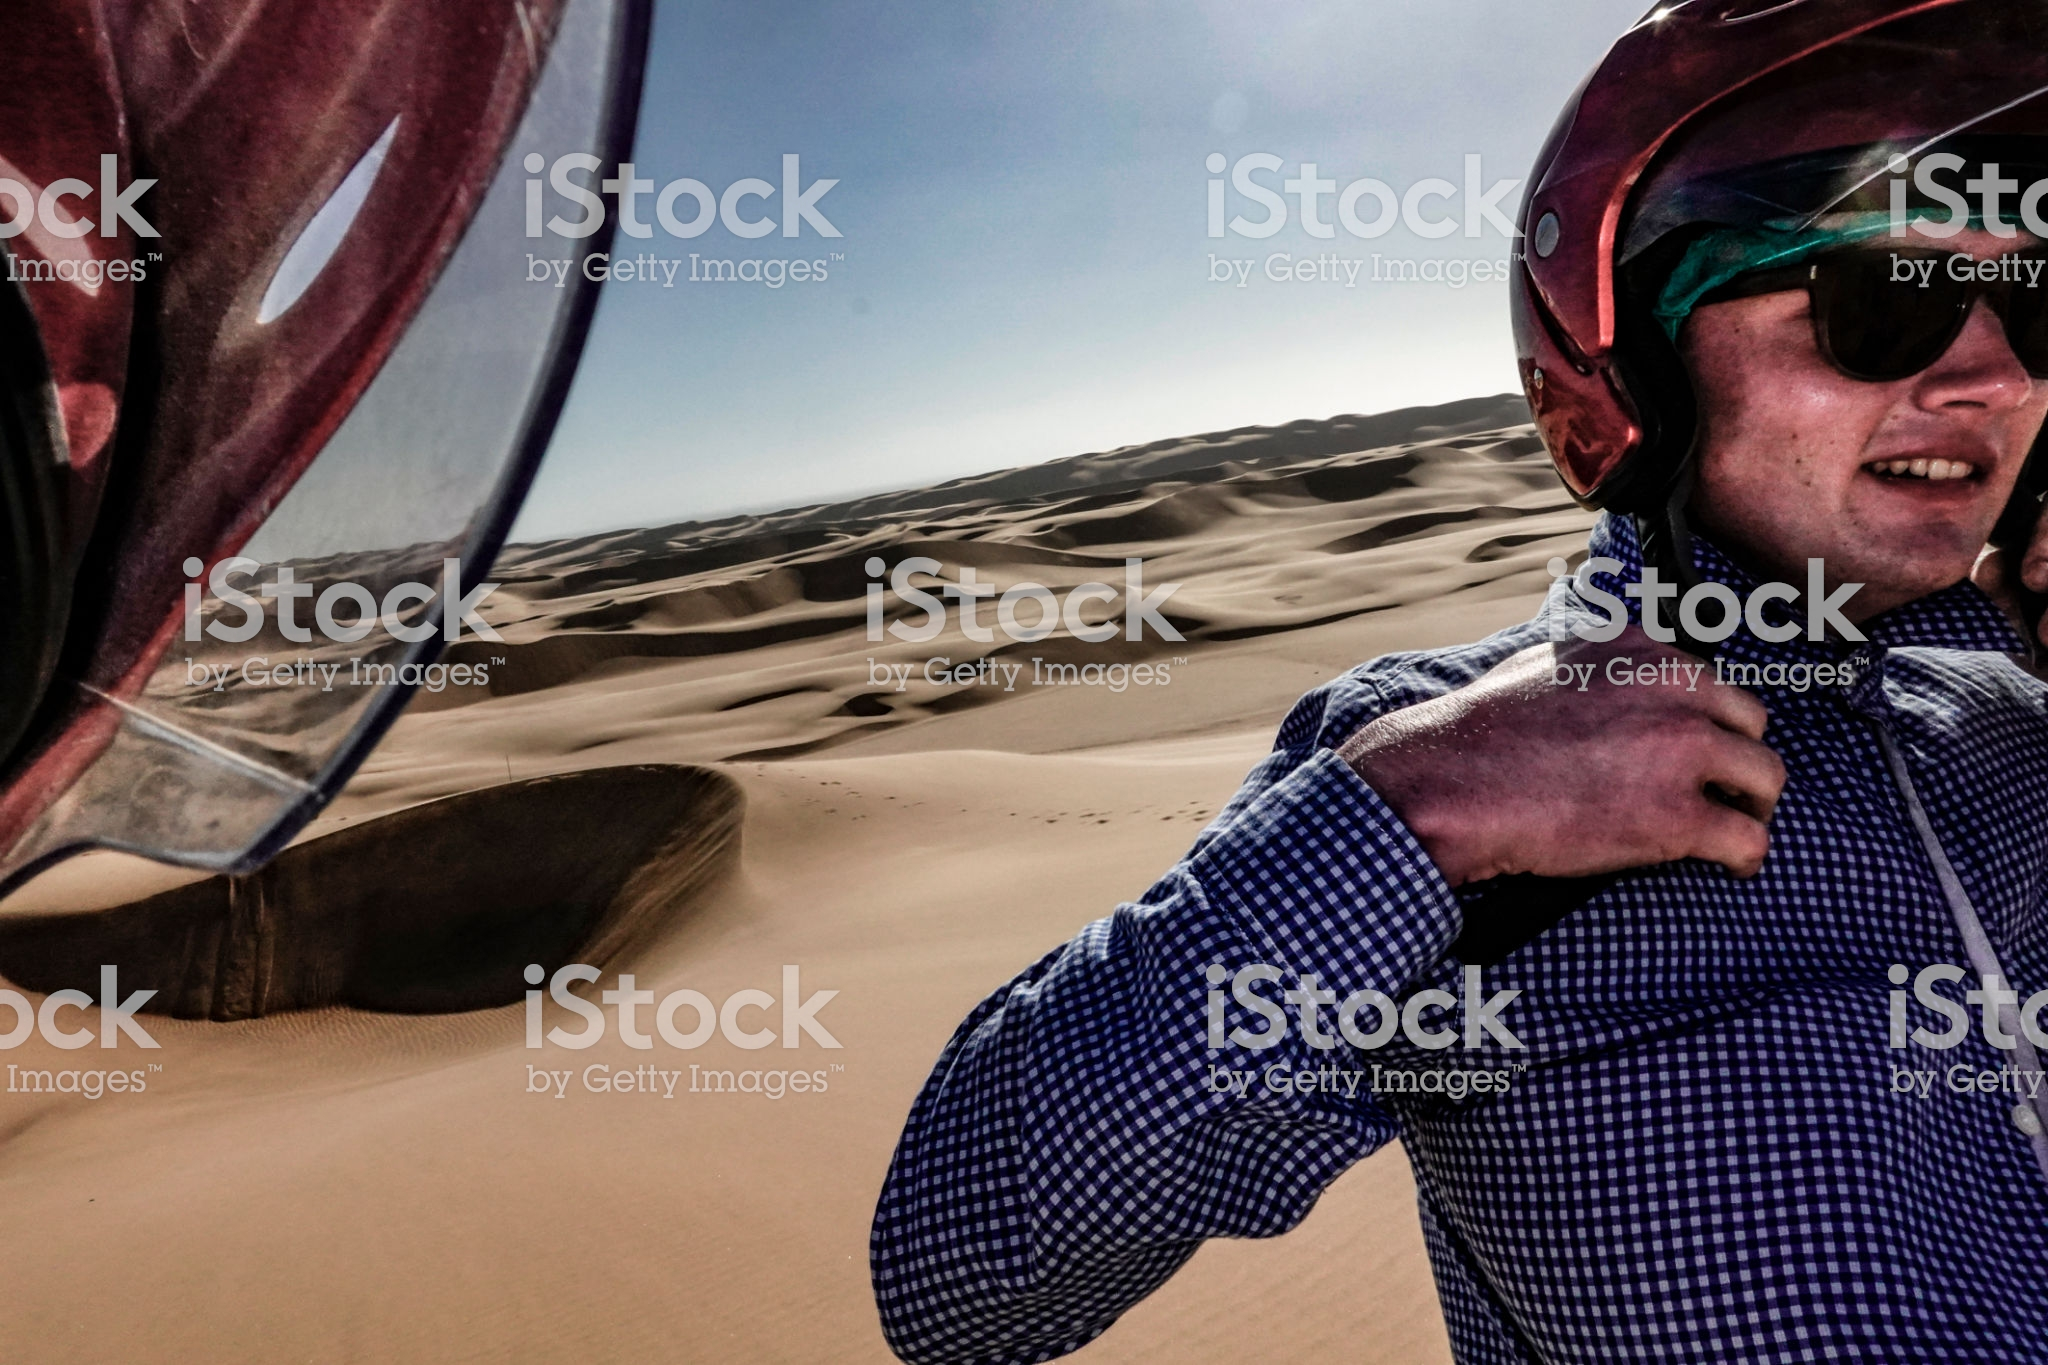helmet: (1495, 21, 2025, 478)
